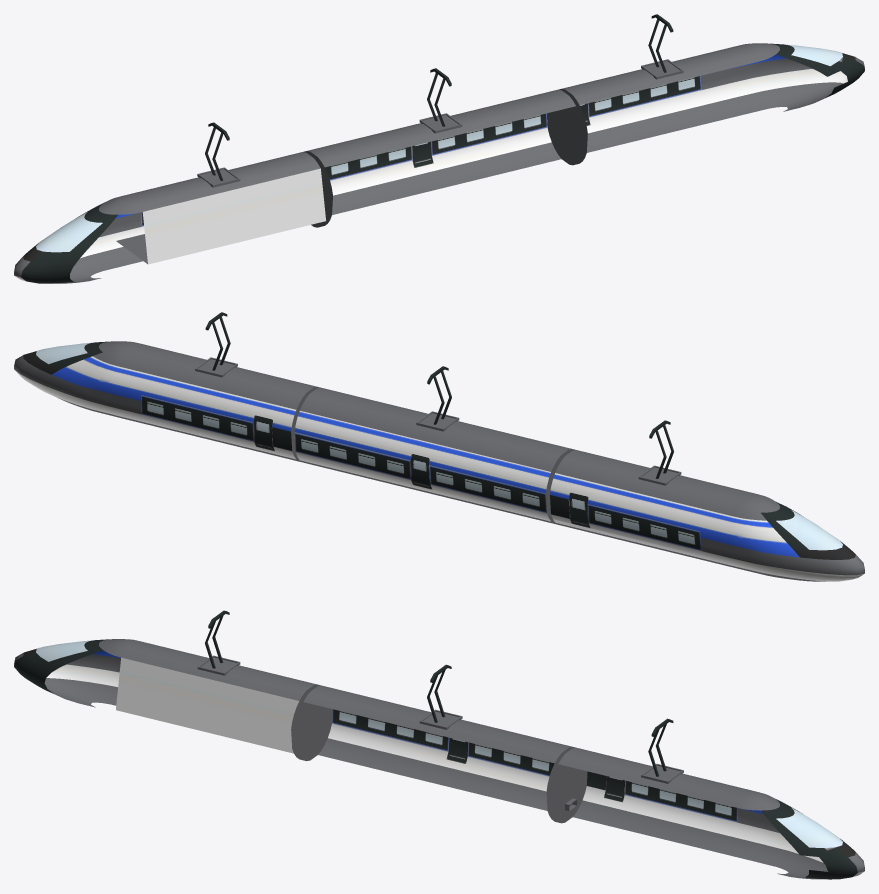
Rendered from Train.fbx.
3 views of the same model, one above another, from view 1: azimuth 30°, elevation 25°; view 2: azimuth 150°, elevation 25°; view 3: azimuth 330°, elevation 25° (orthographic).
Parts seen in each view (by area): view 1: Train; view 2: Train, Door; view 3: Train.
Boxes of the visible parts, bbox=[...] form: Train: bbox=[14, 14, 864, 283]; Train: bbox=[14, 312, 864, 581]; Door: bbox=[568, 492, 590, 528]; Train: bbox=[14, 610, 864, 879].
Size of the model in its own units: 50.73 by 6.8 by 3.92.
